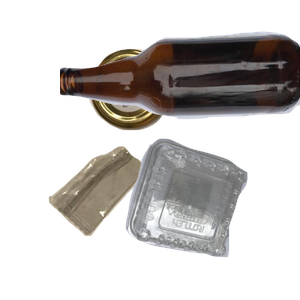glass: (60, 29, 300, 141)
metal: (86, 46, 248, 169)
plastic: (123, 136, 300, 300)
trash: (46, 144, 188, 300)
